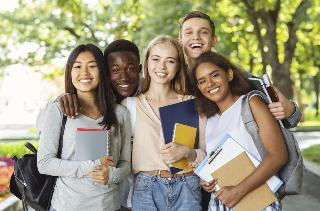person - v3 P: (37, 44, 131, 210), (192, 52, 288, 210), (133, 36, 205, 210), (104, 40, 143, 103)
